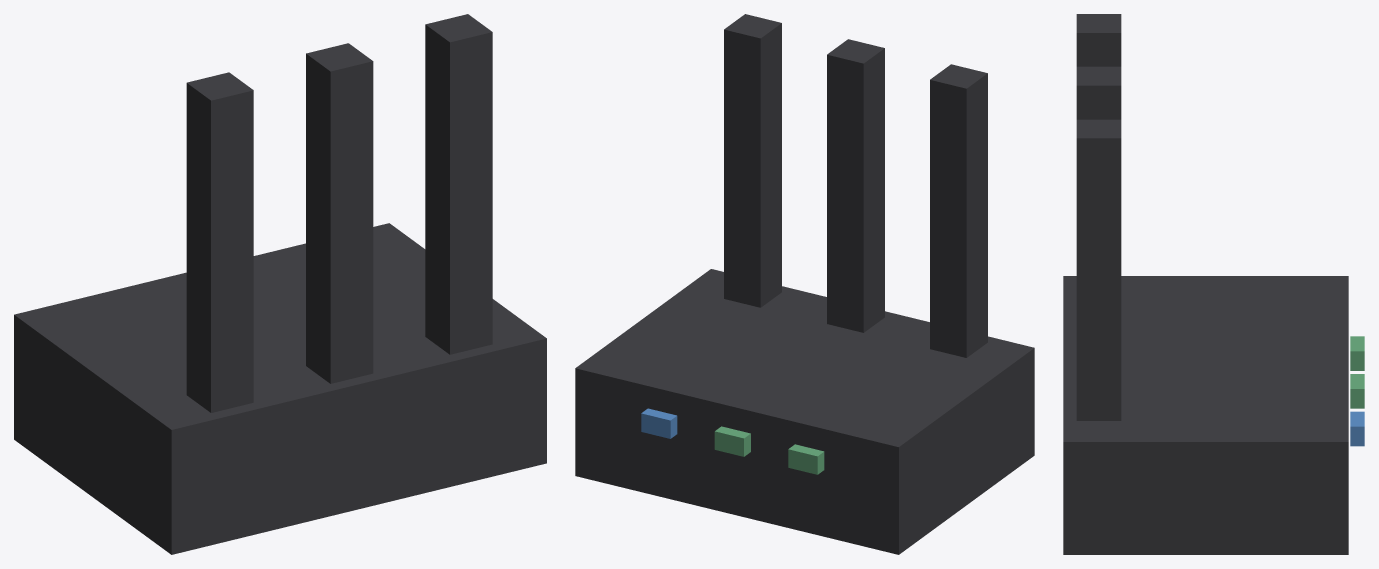
Rendered from eld_roteador.glb.
The picture shows the model from 3 angles, left to right: view 1: azimuth 30°, elevation 25°; view 2: azimuth 150°, elevation 25°; view 3: azimuth 270°, elevation 25°; orthographic projection. The views are drawn at different scales.
Parts seen in each view (by area): view 1: ELD_ROTEADOR_v01; view 2: ELD_ROTEADOR_v01; view 3: ELD_ROTEADOR_v01.
Part boxes in pixels (x1=…): ELD_ROTEADOR_v01: x1=14, y1=14, x2=546, y2=554; ELD_ROTEADOR_v01: x1=575, y1=14, x2=1034, y2=554; ELD_ROTEADOR_v01: x1=1063, y1=14, x2=1364, y2=554.
Size of the model in its own units: 0.22 by 0.245 by 0.169.
